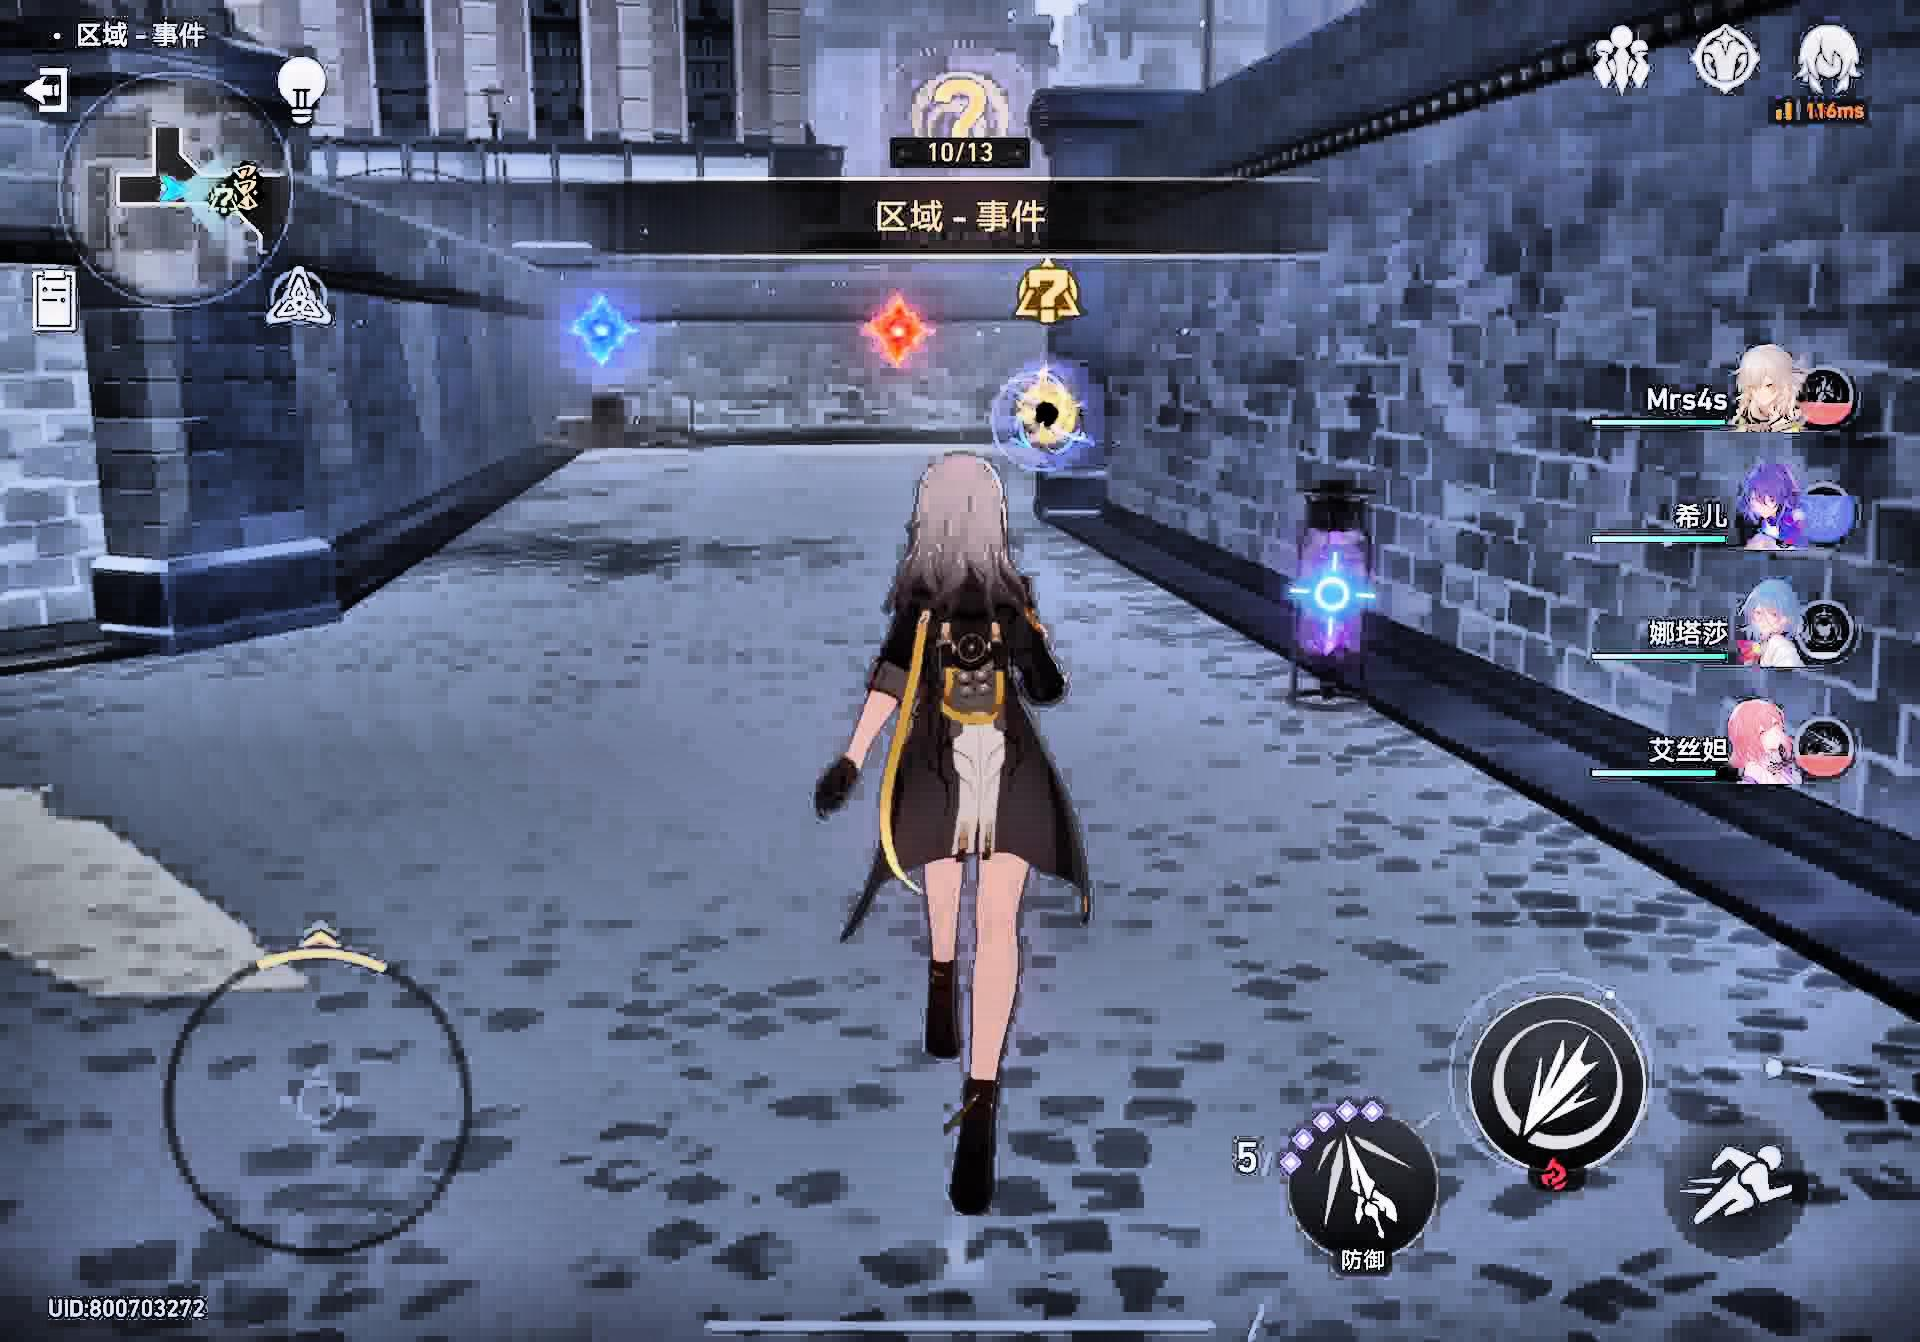BattleDoor: (856, 287, 941, 375)
EventDoor: (557, 295, 645, 376)
EventStar: (991, 357, 1093, 476)
Self: (832, 452, 1100, 1224)
